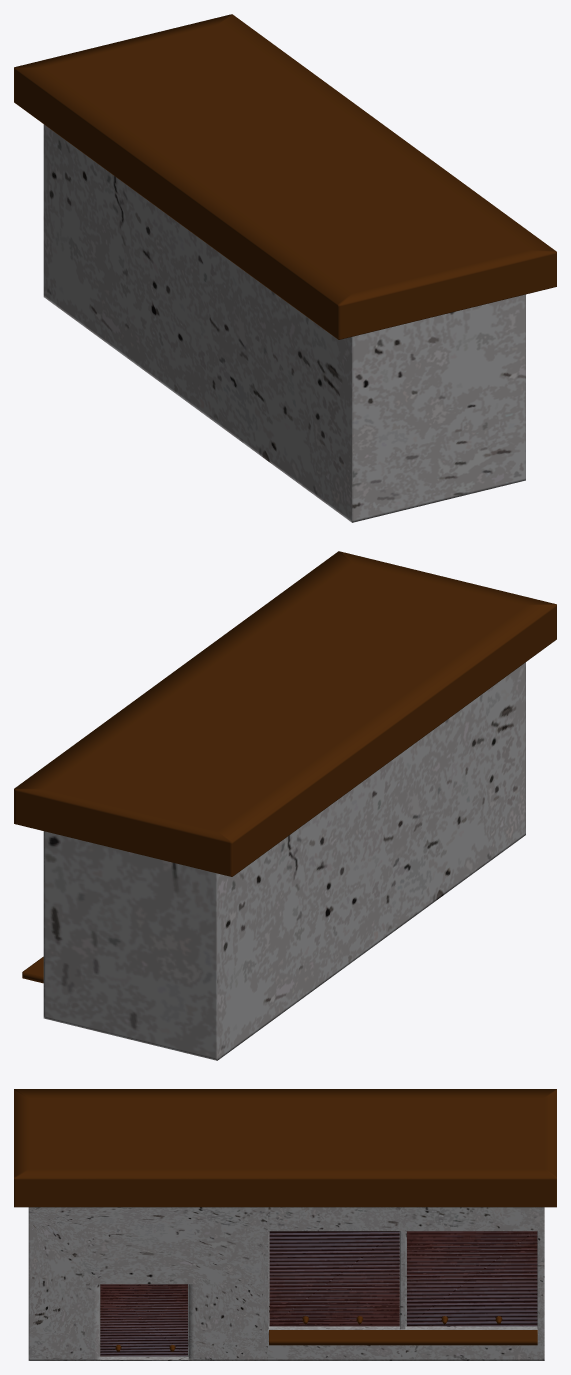
The model's file is gas building.fbx.
The picture shows the model from 3 angles, top to bottom: view 1: azimuth 30°, elevation 25°; view 2: azimuth 150°, elevation 25°; view 3: azimuth 270°, elevation 25°; orthographic projection. The views are drawn at different scales.
Parts seen in each view (by area): view 1: Cube; view 2: Cube; view 3: Cube.
Part boxes in pixels (x1,y1,x2,y2): Cube: (14,14,556,522); Cube: (14,551,556,1060); Cube: (14,1089,556,1360).
Size of the model in its own units: 840 by 833 by 2136.
